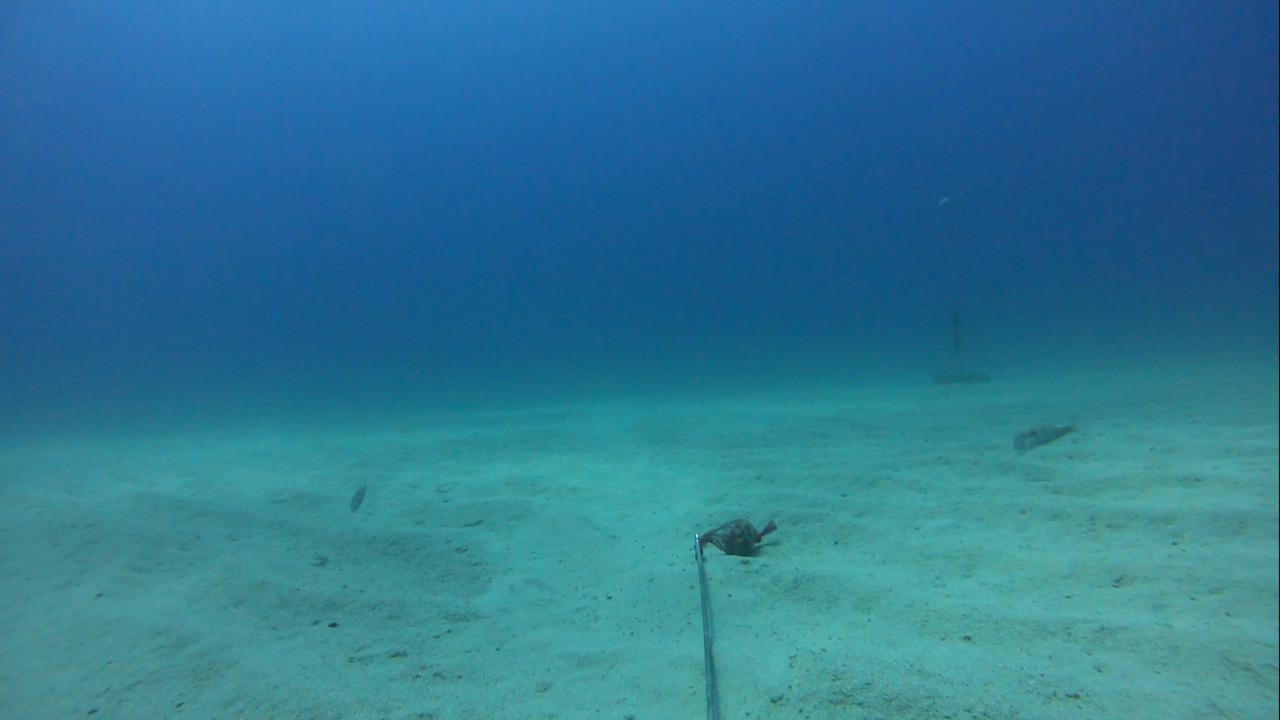raor: (1003, 414, 1088, 456), (339, 475, 378, 518)
